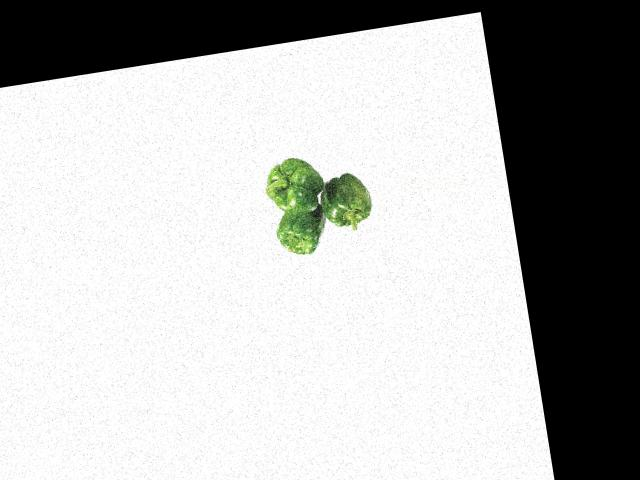bell_pepper: (256, 148, 327, 220)
